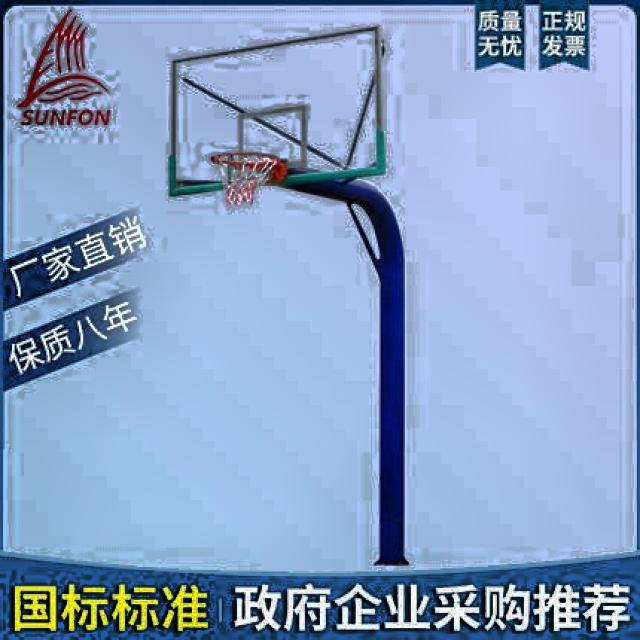rim: (214, 150, 278, 207)
